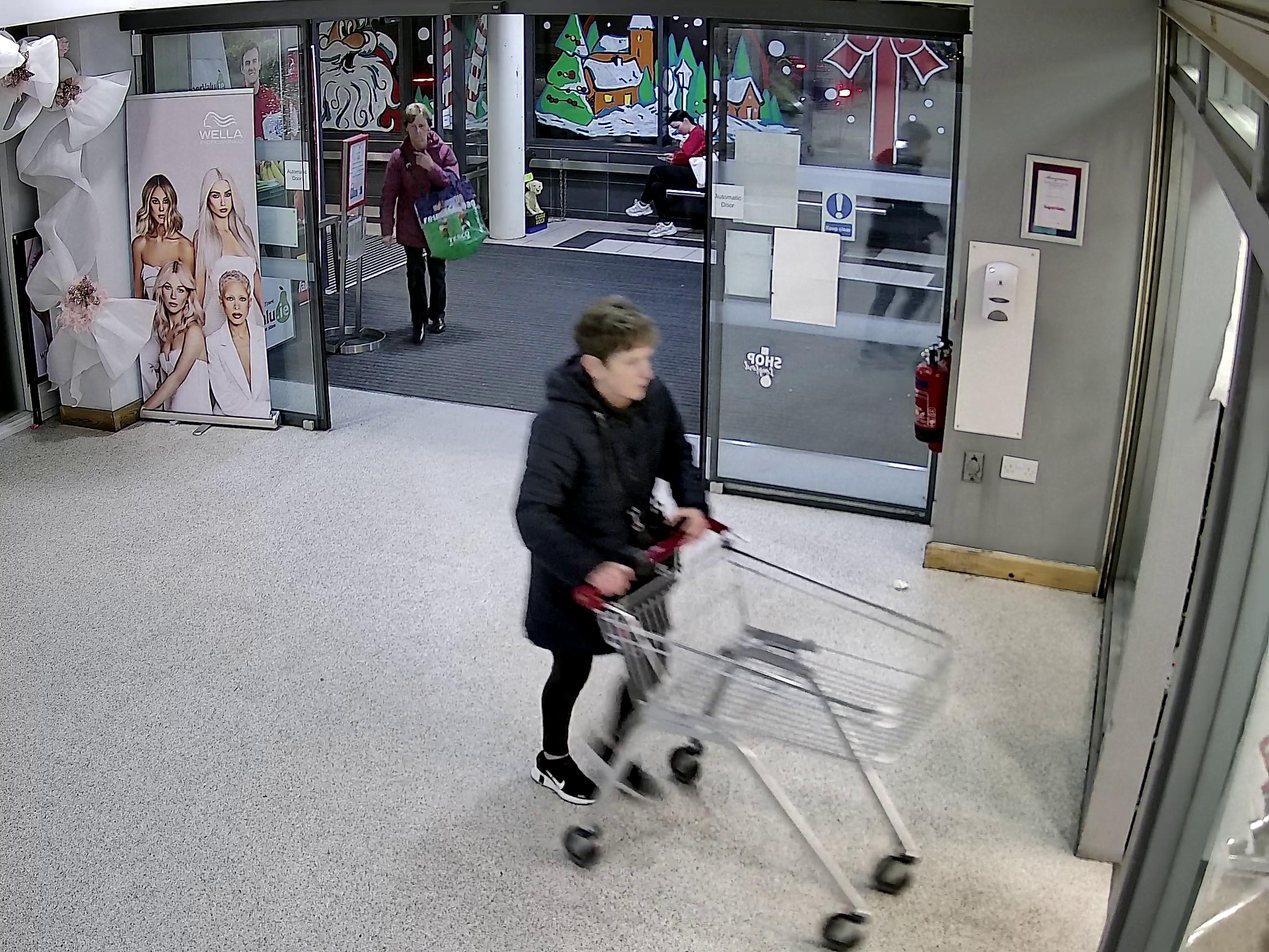empty-trolly: (562, 517, 955, 952)
person: (514, 294, 712, 806)
person-with-empty-basket-trolly: (514, 294, 954, 952)
